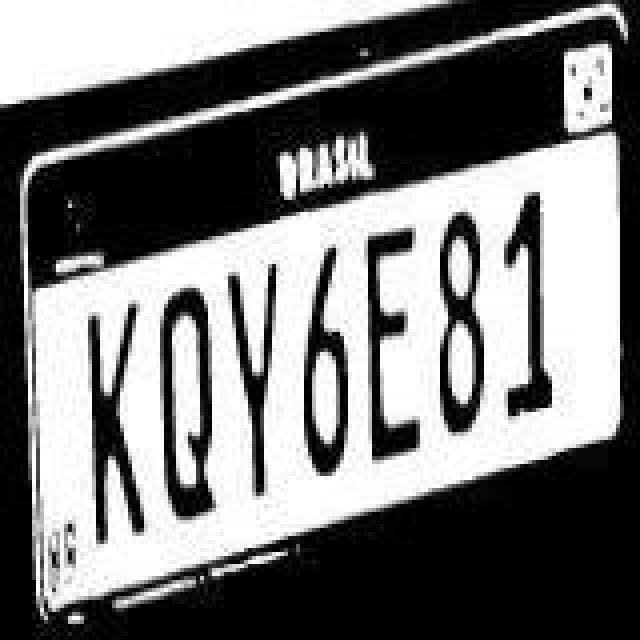1: (496, 174, 568, 454)
6: (298, 224, 358, 504)
8: (438, 186, 506, 458)
E: (368, 214, 432, 466)
K: (76, 302, 156, 550)
Q: (158, 282, 226, 530)
Y: (222, 260, 290, 504)
